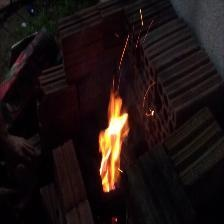fire: (80, 85, 149, 199)
